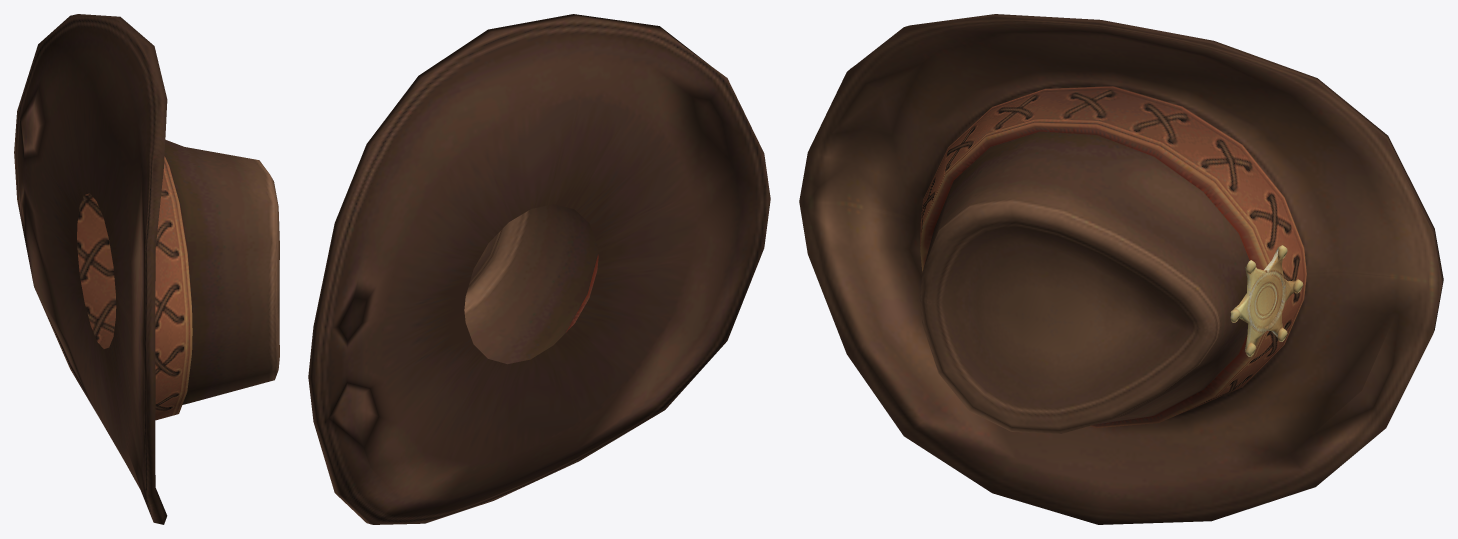
File: M_WesternSheriffHat.fbx
The picture shows the model from 3 angles, left to right: view 1: azimuth 30°, elevation 25°; view 2: azimuth 150°, elevation 25°; view 3: azimuth 270°, elevation 25°; orthographic projection. The views are drawn at different scales.
Visible parts, largest first — view 1: 24_star_1_0_0; view 2: 24_star_1_0_0; view 3: 24_star_1_0_0.
Part boxes in pixels (x1=…): 24_star_1_0_0: x1=14, y1=14, x2=279, y2=524; 24_star_1_0_0: x1=308, y1=14, x2=770, y2=524; 24_star_1_0_0: x1=799, y1=14, x2=1443, y2=524.
Size of the model in its own units: 0.1191 by 0.2103 by 0.2448.
